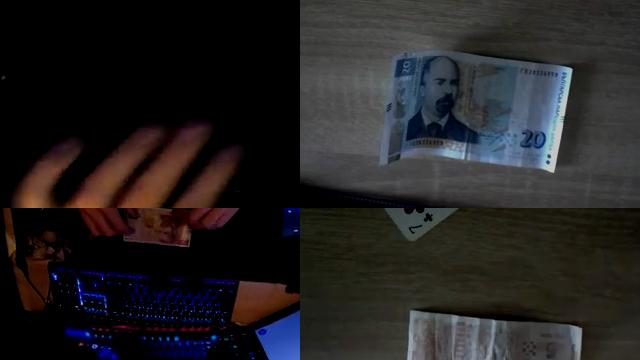20leva: (380, 48, 573, 172)
50leva: (124, 208, 193, 247)
5leva: (407, 309, 582, 360)
